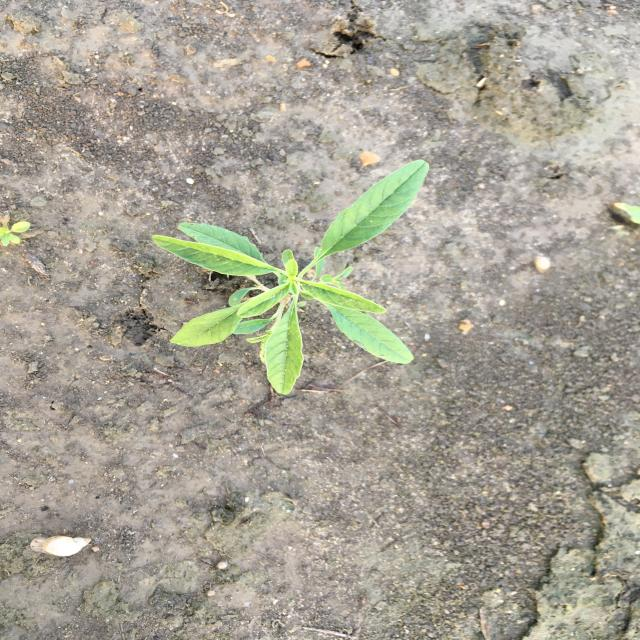Waterhemp: (148, 158, 432, 398)
